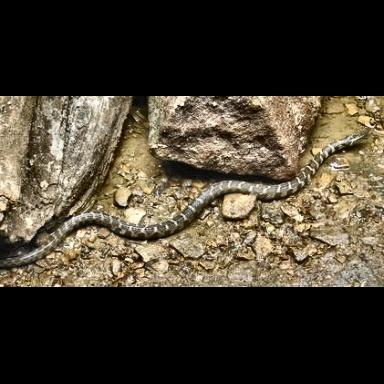snake: (46, 136, 360, 247)
